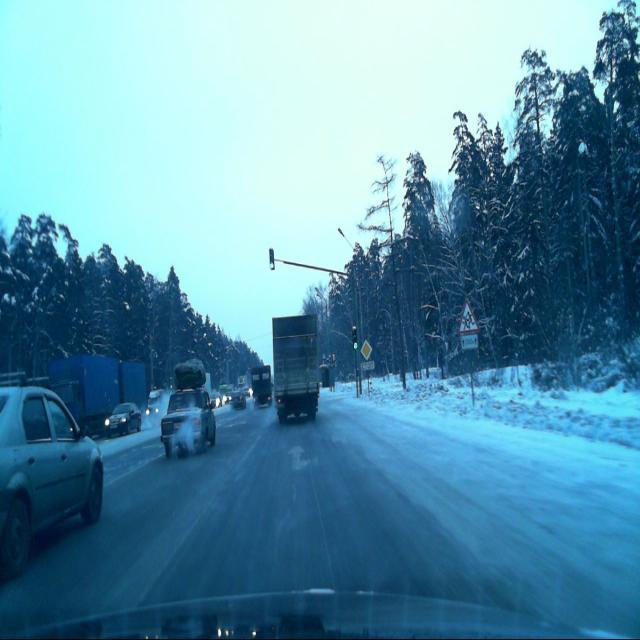object: (470, 352, 476, 406), (361, 361, 376, 373)
road sign: (458, 298, 479, 333), (360, 339, 372, 361), (460, 335, 478, 349)
